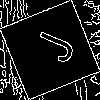J: (25, 25, 77, 66)
